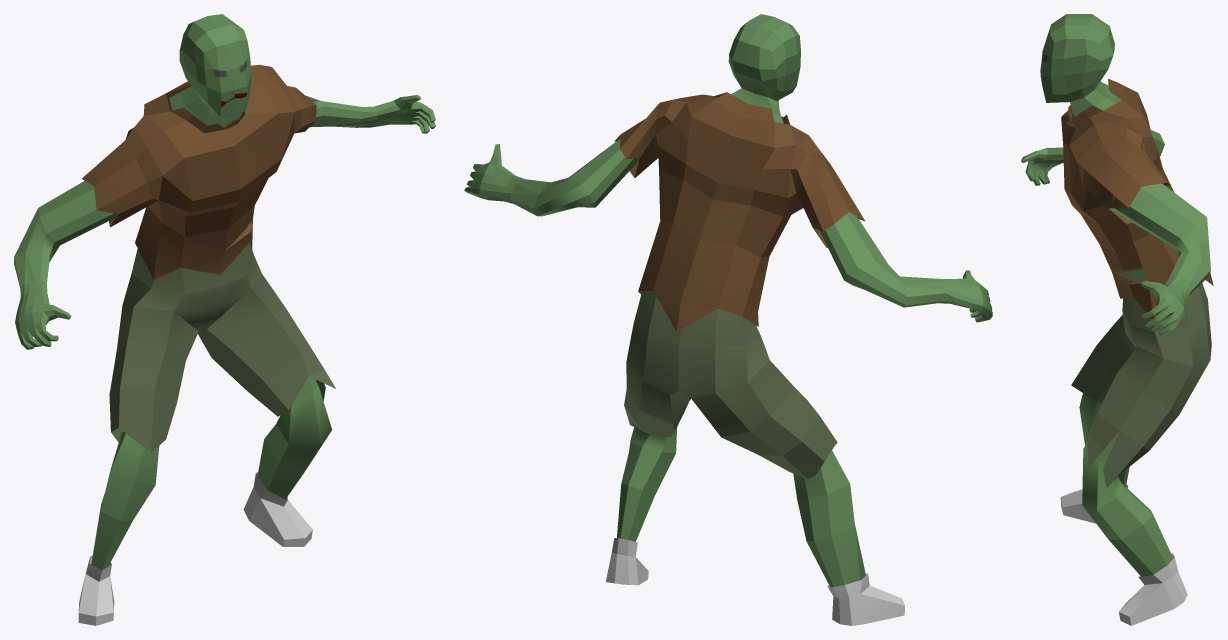
Rendered from ZombieAttack(100).obj.
3 renders of one model, left to right at view 1: azimuth 30°, elevation 25°; view 2: azimuth 150°, elevation 25°; view 3: azimuth 270°, elevation 25°, orthographic. The views are drawn at different scales.
Visible parts, largest first — view 1: Object001; view 2: Object001; view 3: Object001.
Part boxes in pixels (box(x1,y1,x2,y2)): Object001: box(14, 14, 435, 625); Object001: box(464, 14, 992, 625); Object001: box(1021, 14, 1213, 625).
Size of the model in its own units: 47.43 by 55.07 by 17.48.
